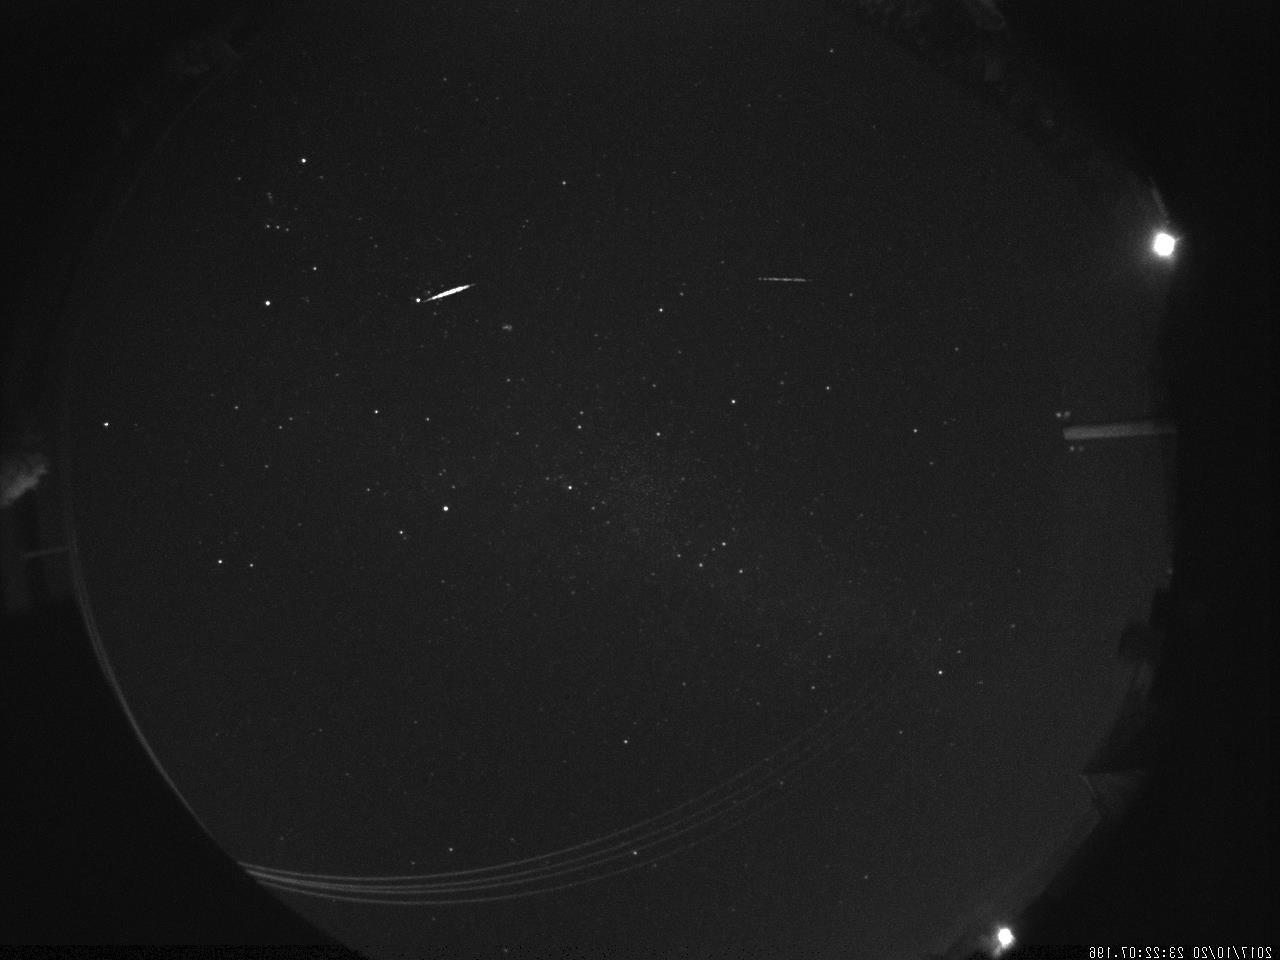meteor: (416, 277, 471, 317)
